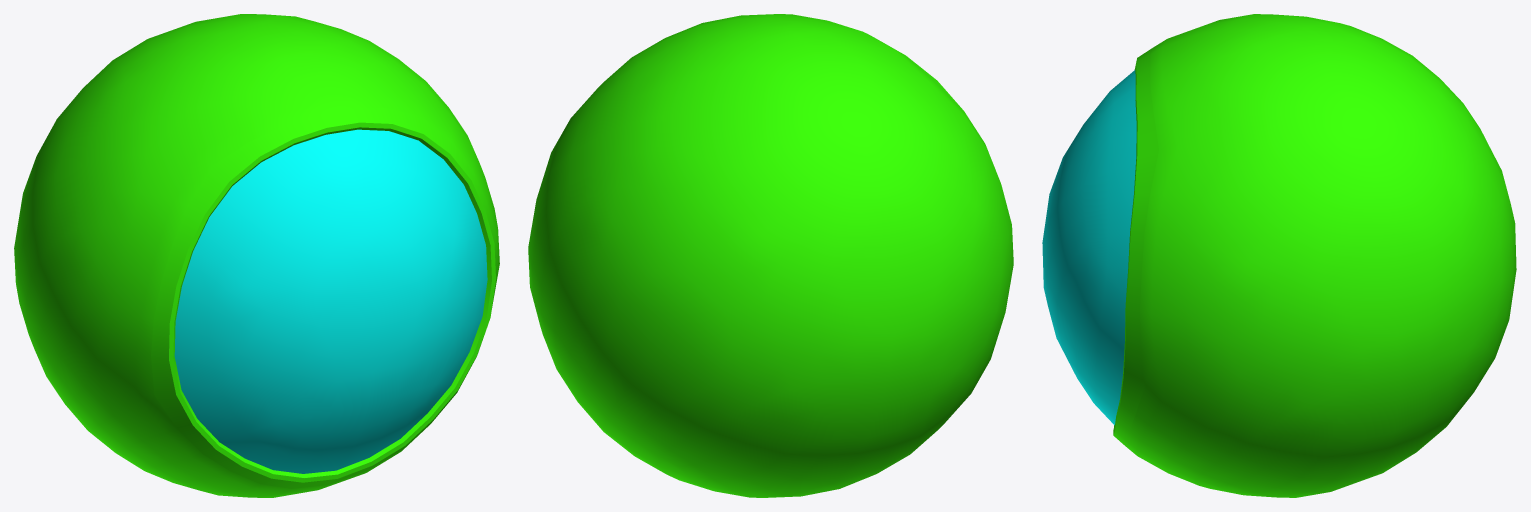
The model's file is Green_Incubator_01.423a9cf2.gltf.
3 renders of one model, left to right at view 1: azimuth 30°, elevation 25°; view 2: azimuth 150°, elevation 25°; view 3: azimuth 270°, elevation 25°, orthographic.
Visible parts, largest first — view 1: pPlatonic2.005; view 2: pPlatonic2.005; view 3: pPlatonic2.005.
Part boxes in pixels (left/top/right/bottom): pPlatonic2.005: left=14, top=14, right=499, bottom=497; pPlatonic2.005: left=528, top=14, right=1013, bottom=497; pPlatonic2.005: left=1042, top=14, right=1516, bottom=497.
Bounding box in the file's own units: 5.03 × 5.04 × 4.93.
